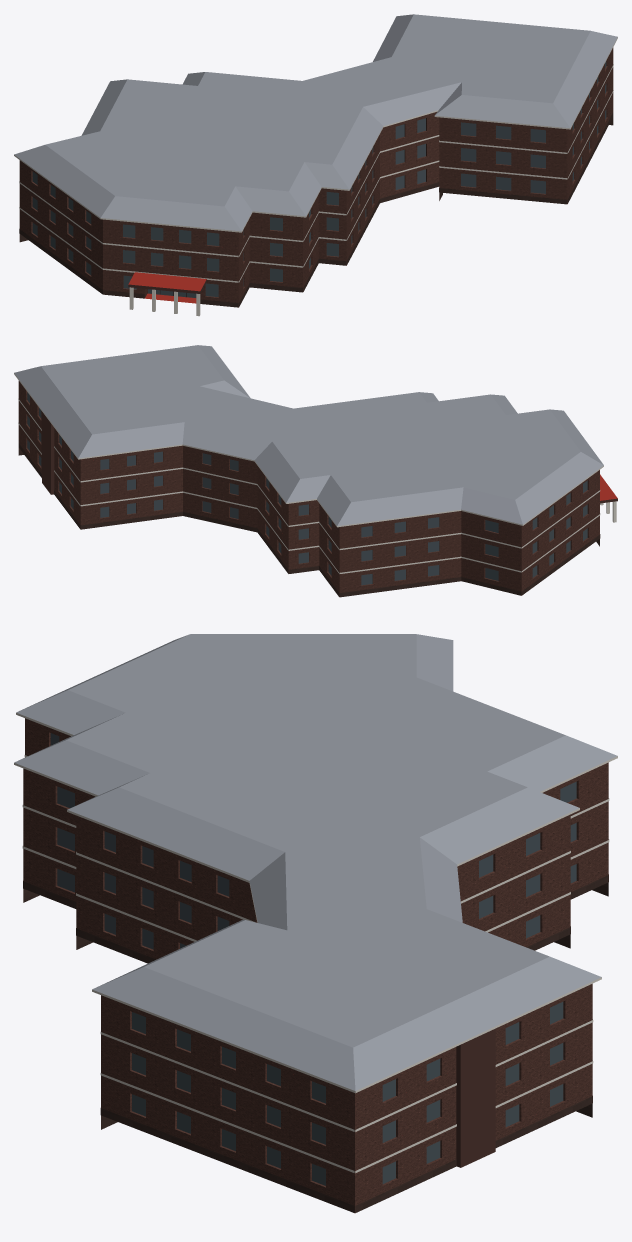
3 renders of one model, top to bottom at view 1: azimuth 30°, elevation 25°; view 2: azimuth 150°, elevation 25°; view 3: azimuth 270°, elevation 25°, orthographic. The views are drawn at different scales.
Visible parts, largest first — view 1: auditorium__roofAccent, auditorium__wall, auditorium__glass, auditorium__trim, auditorium__base, auditorium__roof; view 2: auditorium__roofAccent, auditorium__wall, auditorium__glass, auditorium__trim, auditorium__base, auditorium__wall2; view 3: auditorium__roofAccent, auditorium__wall, auditorium__glass, auditorium__trim, auditorium__base, auditorium__wall2.
Boxes of the visible parts, x1=… form: auditorium__roofAccent: x1=14, y1=14, x2=617, y2=231; auditorium__wall: x1=19, y1=47, x2=613, y2=306; auditorium__glass: x1=32, y1=61, x2=606, y2=297; auditorium__trim: x1=14, y1=37, x2=617, y2=282; auditorium__base: x1=19, y1=112, x2=613, y2=307; auditorium__roof: x1=128, y1=272, x2=206, y2=303; auditorium__roofAccent: x1=14, y1=345, x2=603, y2=525; auditorium__wall: x1=18, y1=381, x2=599, y2=596; auditorium__glass: x1=27, y1=392, x2=587, y2=585; auditorium__trim: x1=14, y1=373, x2=603, y2=573; auditorium__base: x1=18, y1=443, x2=600, y2=597; auditorium__wall2: x1=42, y1=412, x2=617, y2=503; auditorium__roofAccent: x1=14, y1=634, x2=617, y2=1090; auditorium__wall: x1=23, y1=718, x2=608, y2=1212; auditorium__glass: x1=50, y1=733, x2=576, y2=1185; auditorium__trim: x1=14, y1=712, x2=617, y2=1173; auditorium__base: x1=23, y1=874, x2=608, y2=1212; auditorium__wall2: x1=456, y1=1028, x2=495, y2=1167.
Size of the model in its own units: 98.69 by 16.54 by 55.84.
Materials: 10 (2 with a texture image).
